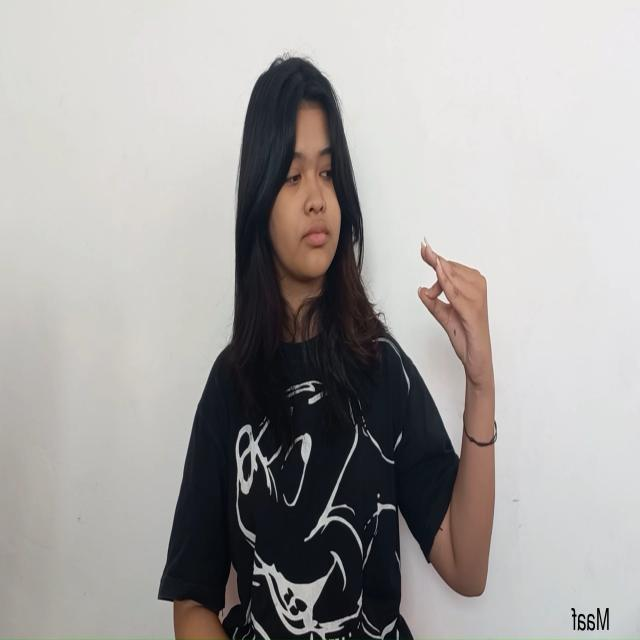Maaf -BISINDO-: (416, 233, 497, 400)
